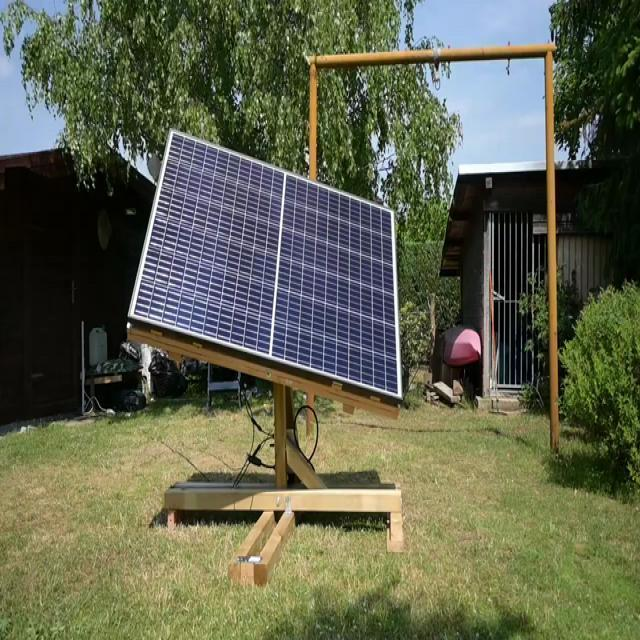Normal Solar Panel: (129, 131, 402, 400)
